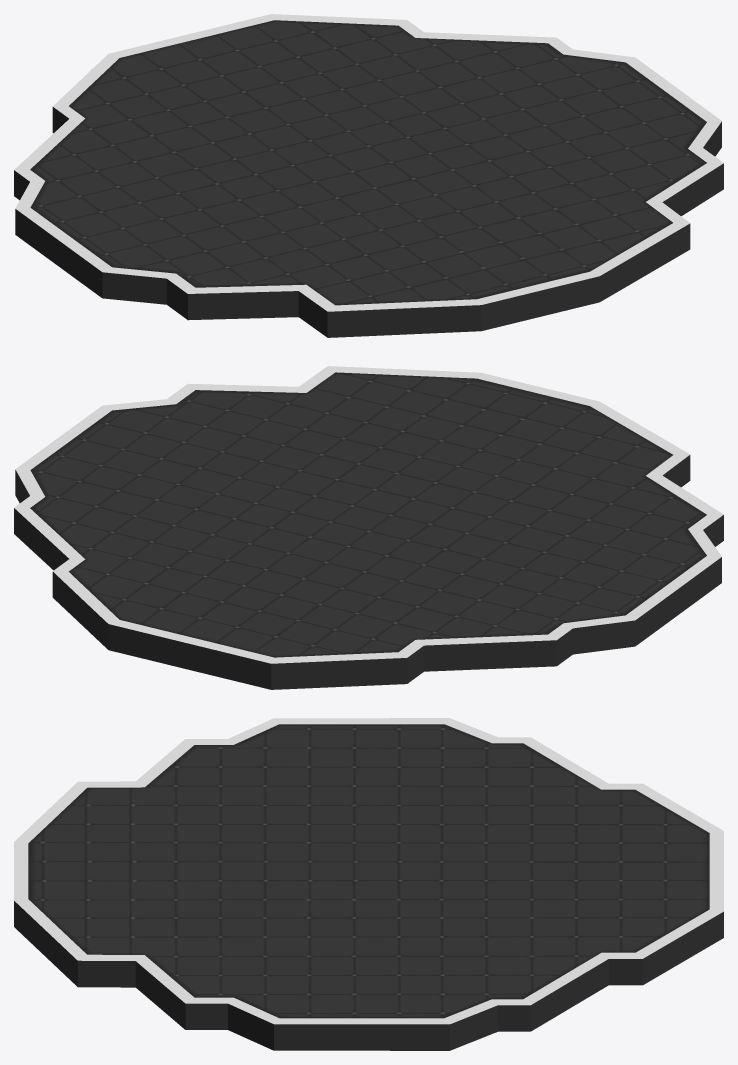
Rendered from MainFirstFloorGround0.FBX.
The picture shows the model from 3 angles, top to bottom: view 1: azimuth 30°, elevation 25°; view 2: azimuth 150°, elevation 25°; view 3: azimuth 270°, elevation 25°; orthographic projection.
Parts seen in each view (by area): view 1: Cylinder002; view 2: Cylinder002; view 3: Cylinder002.
Part boxes in pixels (box(x1,y1,x2,y2)): Cylinder002: box(14, 14, 723, 337); Cylinder002: box(14, 366, 723, 689); Cylinder002: box(14, 718, 723, 1050).
Bounding box in the file's own units: 418 × 16.85 × 410.
1 material, 1 textured.
